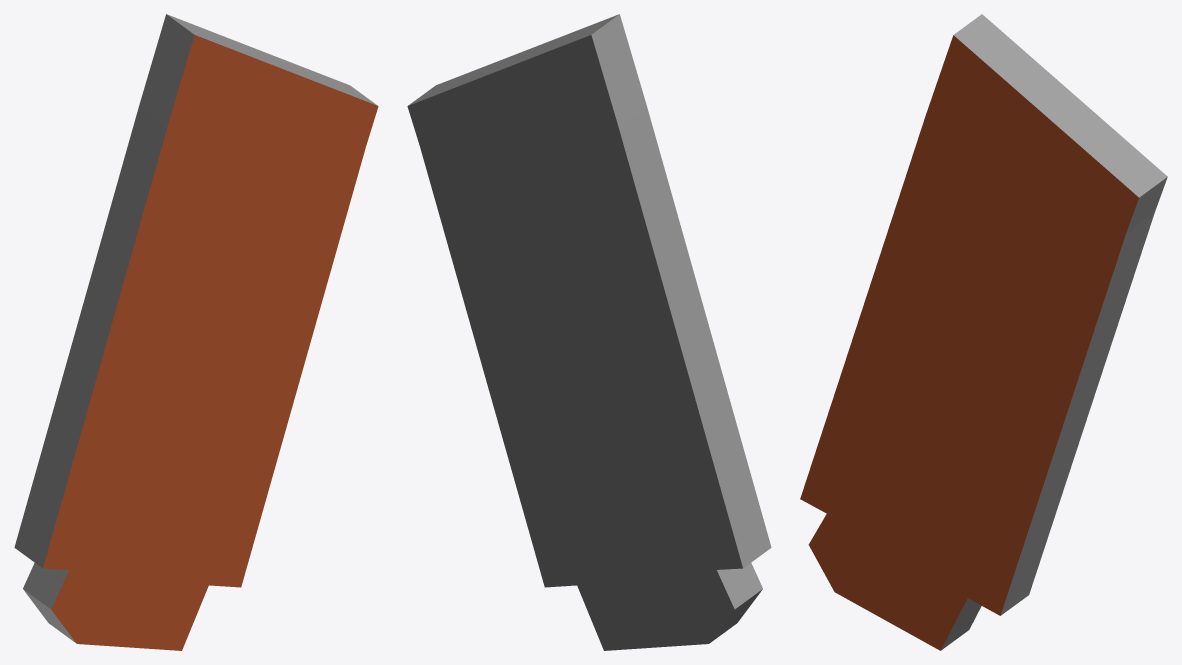
The model's file is construction_1657_assumed_A_Casa_h6m.obj.
The picture shows the model from 3 angles, left to right: view 1: azimuth 30°, elevation 25°; view 2: azimuth 150°, elevation 25°; view 3: azimuth 330°, elevation 25°; orthographic projection.
Visible parts, largest first — view 1: construction_1657_assumed_A_Casa; view 2: construction_1657_assumed_A_Casa; view 3: construction_1657_assumed_A_Casa.
Boxes of the visible parts, box(x1,y1,x2,y2) form: construction_1657_assumed_A_Casa: box(14, 14, 378, 650); construction_1657_assumed_A_Casa: box(407, 14, 771, 650); construction_1657_assumed_A_Casa: box(800, 14, 1167, 650).
Bounding box in the file's own units: 40.9 × 71.37 × 6.
